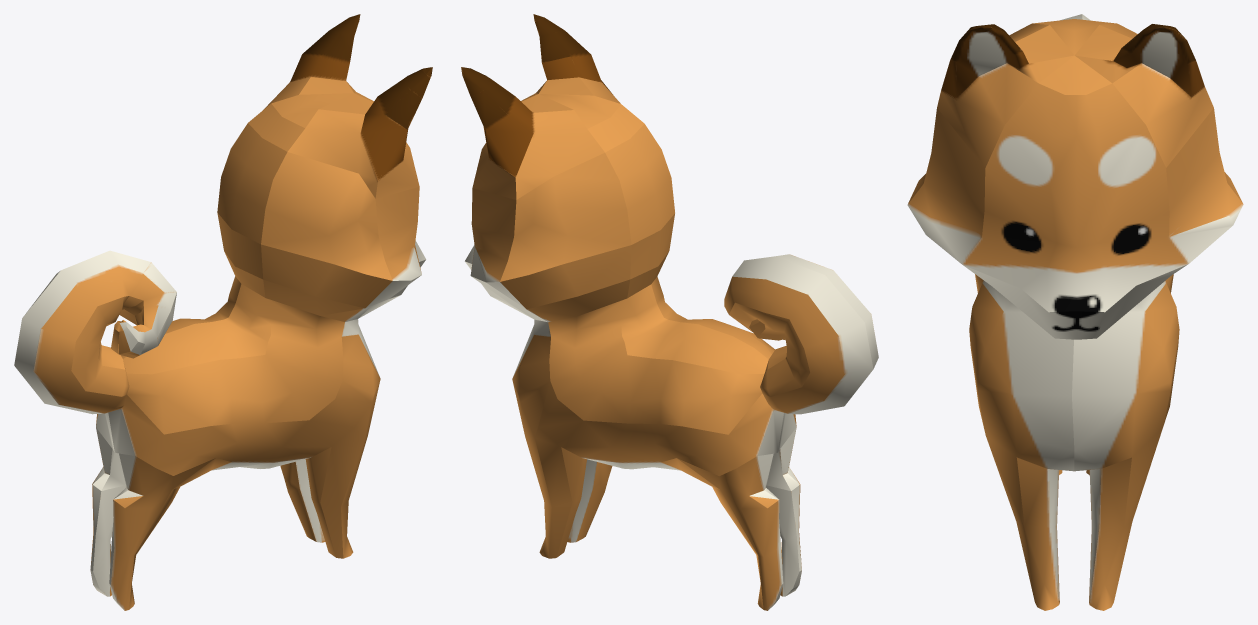
The model's file is Chiba_texture_import_embed_media.fbx.
The picture shows the model from 3 angles, left to right: view 1: azimuth 30°, elevation 25°; view 2: azimuth 150°, elevation 25°; view 3: azimuth 270°, elevation 25°; orthographic projection. The views are drawn at different scales.
Visible parts, largest first — view 1: BodzL1; view 2: BodzL1; view 3: BodzL1.
Part boxes in pixels (<box>): BodzL1: <box>14,14,432,610</box>; BodzL1: <box>461,14,878,610</box>; BodzL1: <box>907,14,1243,610</box>.
Bounding box in the file's own units: 6.81 × 7.95 × 3.91.
Materials: 1 (1 with a texture image).
